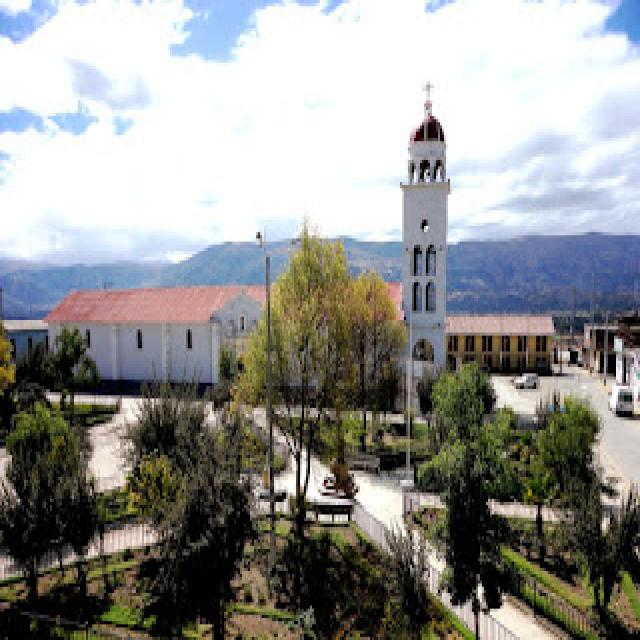CAMPANARIO: (401, 190, 449, 323)
CUPULA: (406, 120, 449, 188)
TORRES: (400, 74, 450, 414)
colonial-architecture-: (0, 72, 461, 422)
